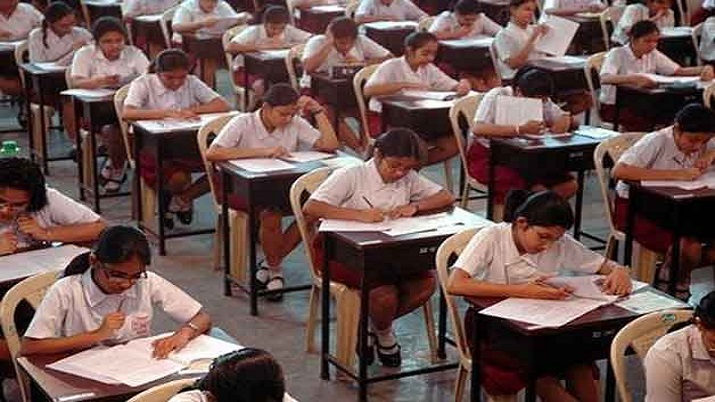student: (21, 210, 269, 377), (461, 179, 646, 332), (313, 118, 497, 242), (1, 136, 142, 259), (593, 76, 715, 202), (212, 84, 340, 181), (575, 6, 712, 86), (118, 42, 230, 134), (359, 27, 477, 101), (59, 17, 161, 89), (478, 7, 582, 71), (298, 10, 395, 77), (213, 11, 317, 71)
studentcopying: (456, 60, 609, 166)
